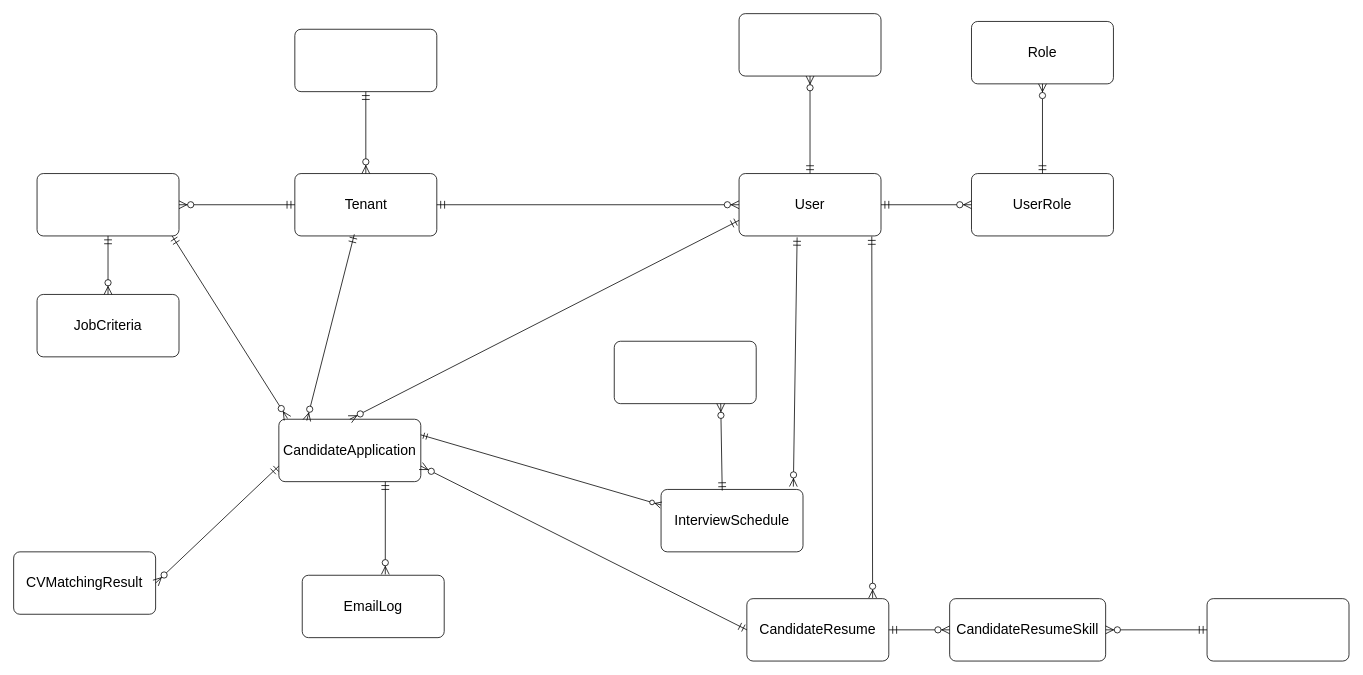
This 1363x675 diagram has some shape labels left out. The box of each missing label's shape, as (x1, y1, x2, y2) in pixels:
InterviewFeedback: (613, 340, 756, 404)
JobPosting: (36, 173, 179, 236)
Plan: (294, 28, 437, 92)
Skill: (1206, 598, 1349, 661)
UserToken: (738, 13, 881, 76)
